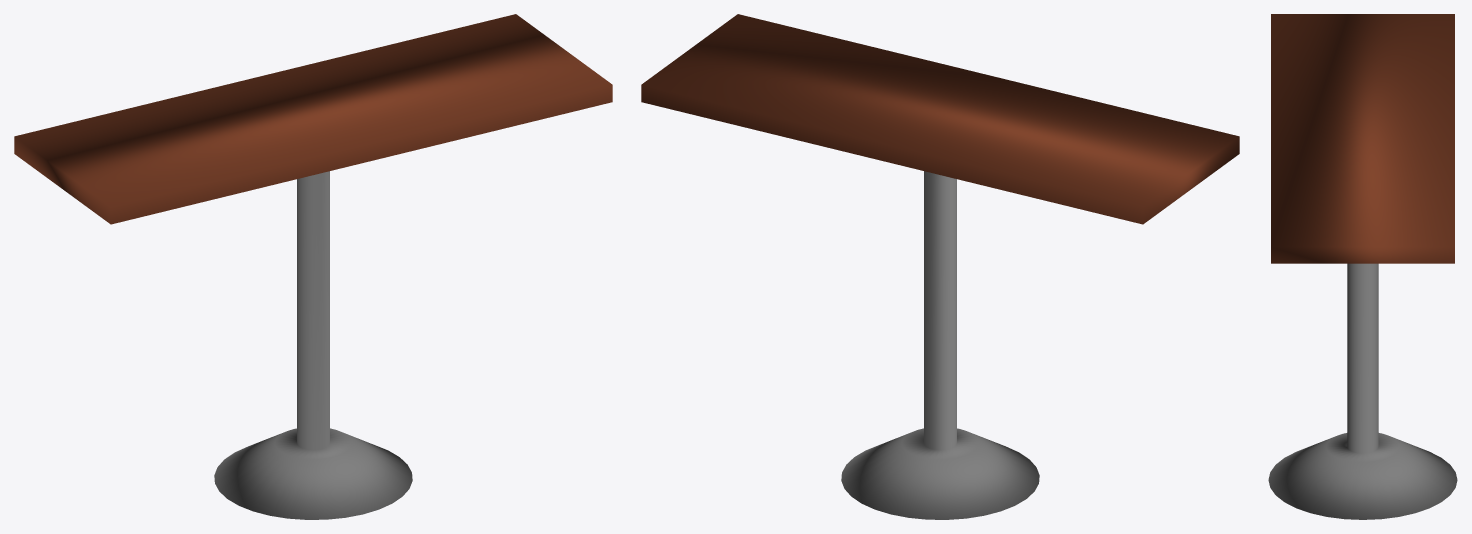
Rendered from Table.fbx.
3 renders of one model, left to right at view 1: azimuth 30°, elevation 25°; view 2: azimuth 150°, elevation 25°; view 3: azimuth 270°, elevation 25°, orthographic. The views are drawn at different scales.
Parts seen in each view (by area): view 1: Desktop, Stand; view 2: Desktop, Stand; view 3: Desktop, Stand.
Part boxes in pixels (x1,y1,x2,y2): Desktop: [14, 14, 612, 224]; Stand: [214, 171, 412, 519]; Desktop: [641, 14, 1239, 224]; Stand: [841, 171, 1039, 519]; Desktop: [1271, 14, 1454, 263]; Stand: [1268, 263, 1457, 519].
Bounding box in the file's own units: 150 × 105 × 51.47.
